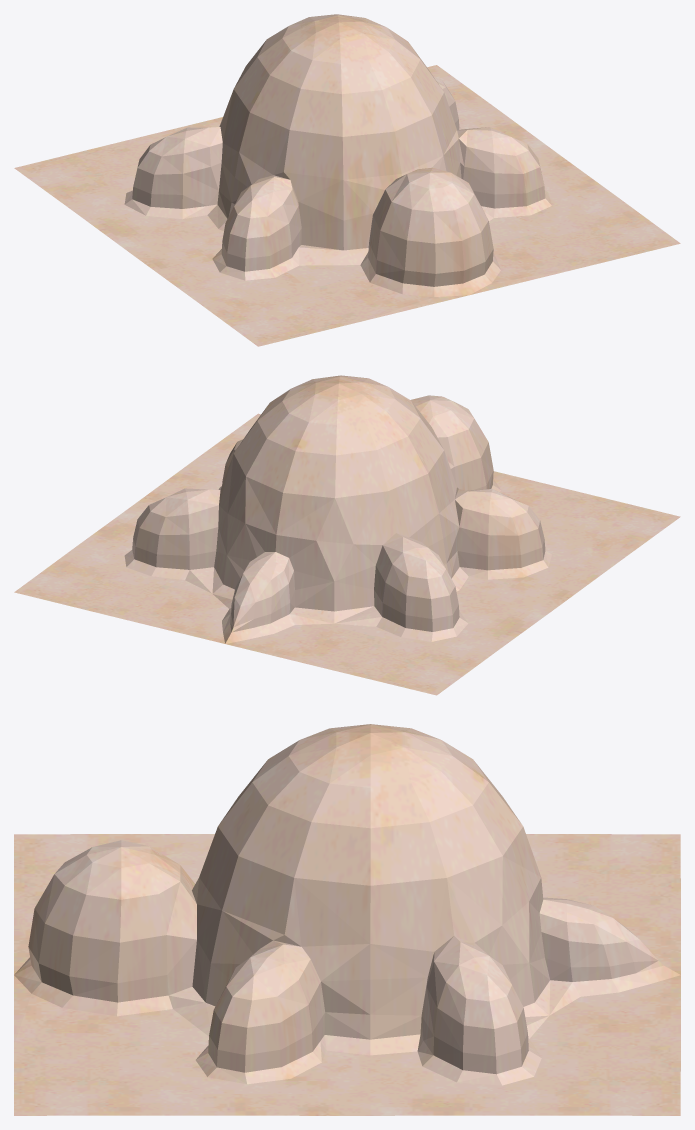
The model's file is sandbombbaseturtle.dae.
3 renders of one model, top to bottom at view 1: azimuth 30°, elevation 25°; view 2: azimuth 150°, elevation 25°; view 3: azimuth 270°, elevation 25°, orthographic. The views are drawn at different scales.
Parts seen in each view (by area): view 1: m0; view 2: m0; view 3: m0.
Part boxes in pixels (left/top/right/bottom): m0: left=14, top=14, right=680, bottom=346; m0: left=14, top=375, right=680, bottom=695; m0: left=14, top=724, right=680, bottom=1115.
Bounding box in the file's own units: 2095 × 840 × 2097.
1 material, 1 textured.
